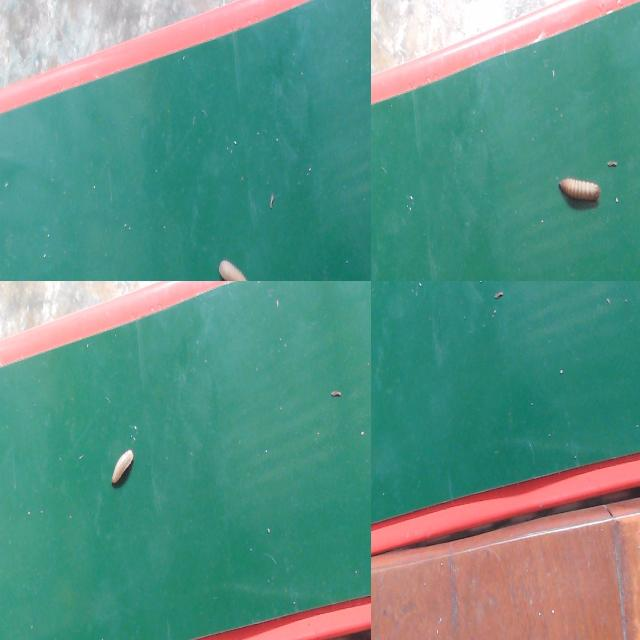Maggot: (557, 177, 601, 211), (108, 450, 134, 491), (217, 261, 250, 281)
